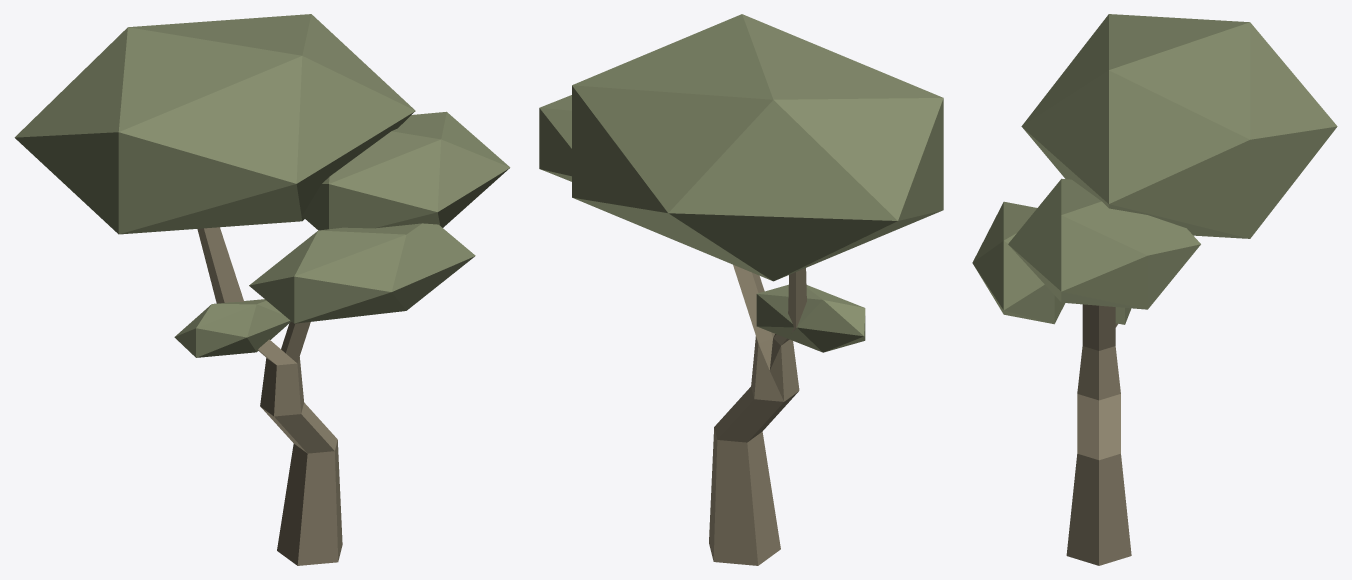
Rendered from Oak1.fbx.
3 renders of one model, left to right at view 1: azimuth 30°, elevation 25°; view 2: azimuth 150°, elevation 25°; view 3: azimuth 270°, elevation 25°, orthographic. The views are drawn at different scales.
Visible parts, largest first — view 1: Oak1; view 2: Oak1; view 3: Oak1.
Part boxes in pixels (box(x1,y1,x2,y2)): Oak1: box(14, 14, 510, 565); Oak1: box(539, 14, 943, 565); Oak1: box(972, 14, 1337, 565).
Bounding box in the file's own units: 13.04 × 15.44 × 10.67.
